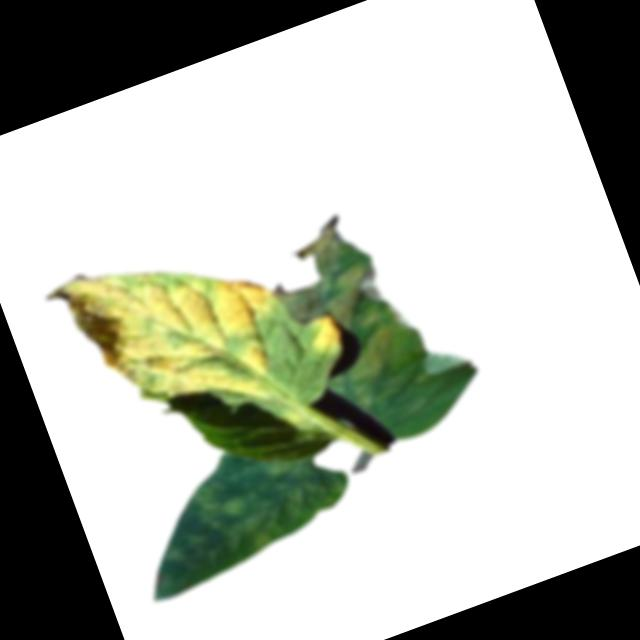Leaf_Mold: (58, 213, 303, 452), (254, 202, 435, 426), (120, 438, 350, 605)
